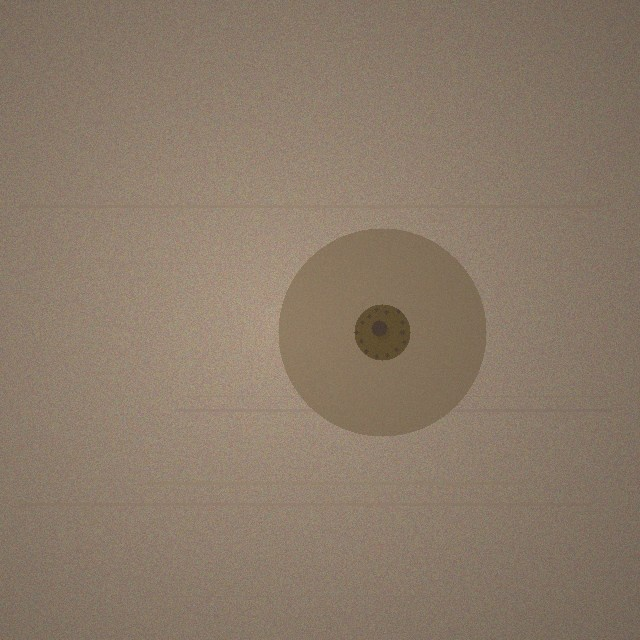cold_weld: (278, 228, 486, 436)
